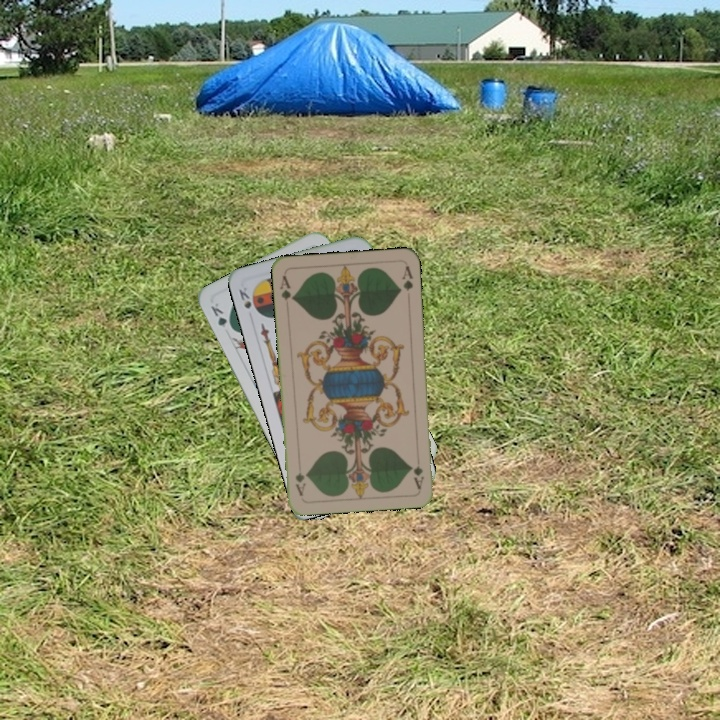GA: (276, 271, 296, 311), (409, 451, 426, 491)
GK: (206, 299, 236, 334)
SK: (235, 283, 254, 311)
